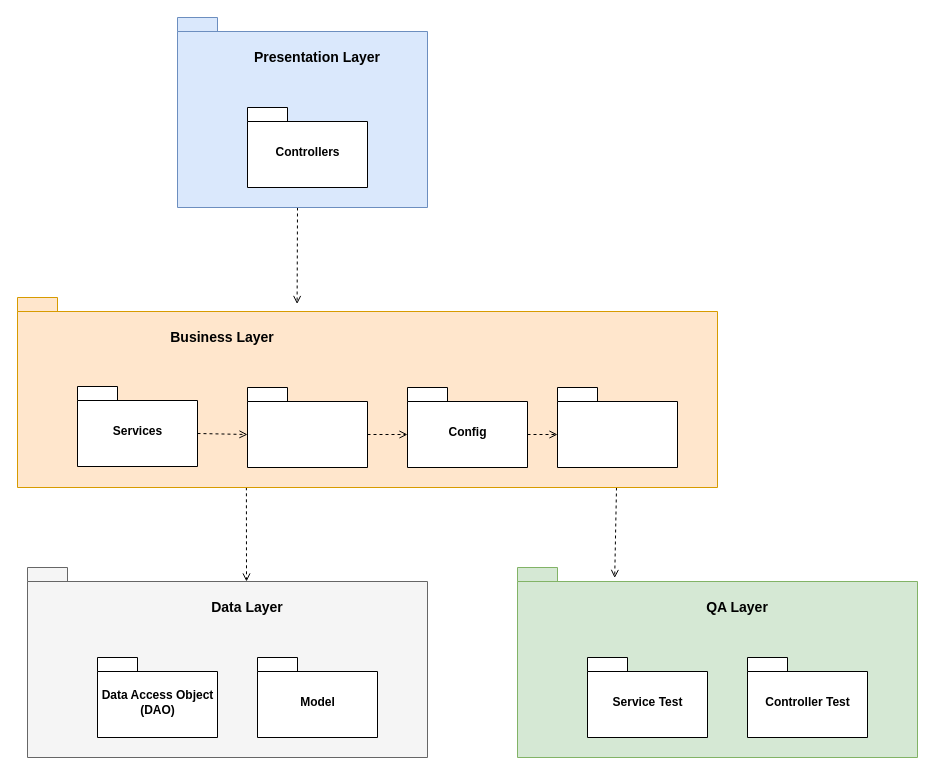
Image size: 935x775. Some labels were removed from this diagram. Here are the shapes that lost their labels. From the top down, the centre of each, then its label:
At point (307, 427): "TO".
At point (617, 427): "Workflow".
